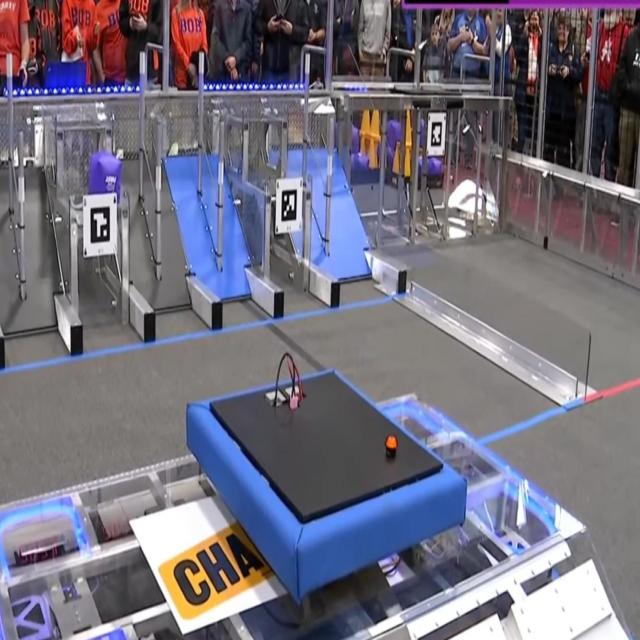frc_cone: (359, 108, 372, 142), (378, 140, 386, 177), (403, 107, 411, 143), (370, 110, 380, 138), (419, 135, 426, 171), (405, 149, 412, 182), (372, 143, 380, 163)
frc_cube: (90, 150, 120, 201), (426, 160, 444, 181), (348, 121, 361, 150), (349, 152, 361, 178), (387, 122, 399, 140), (386, 140, 394, 162), (356, 155, 366, 171), (418, 149, 424, 170)
